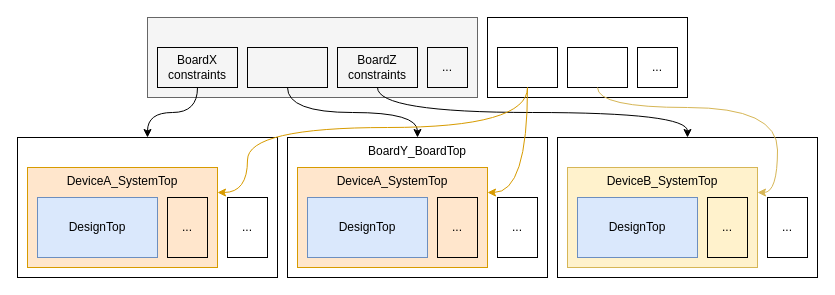
Image size: 835x295. Some labels were removed from this diagram. Each missing label, with the box of its shape:
BoardX_BoardTop: (16, 136, 278, 278)
BoardY constraints: (246, 46, 328, 88)
BoardZ_BoardTop: (556, 136, 818, 278)
DeviceA libraries: (496, 46, 558, 88)
DeviceB libraries: (566, 46, 628, 88)
hdl/constraints: (146, 16, 478, 98)
Tool|vendor libraries: (486, 16, 688, 98)
